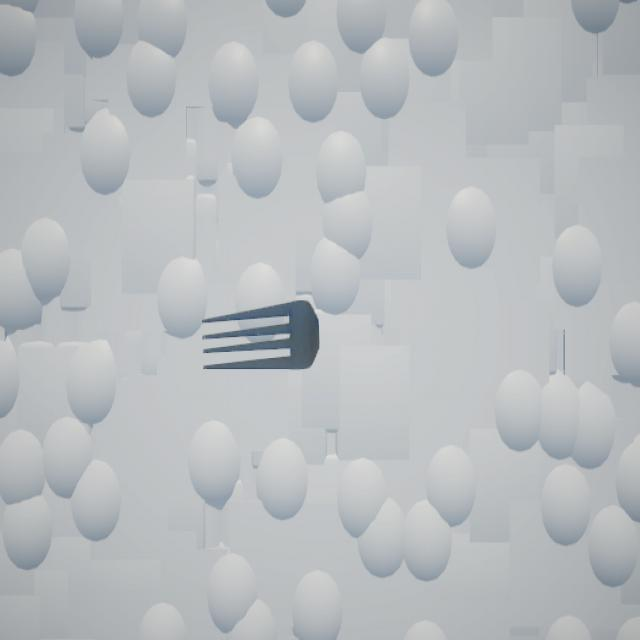top_folk: (203, 302, 321, 372)
